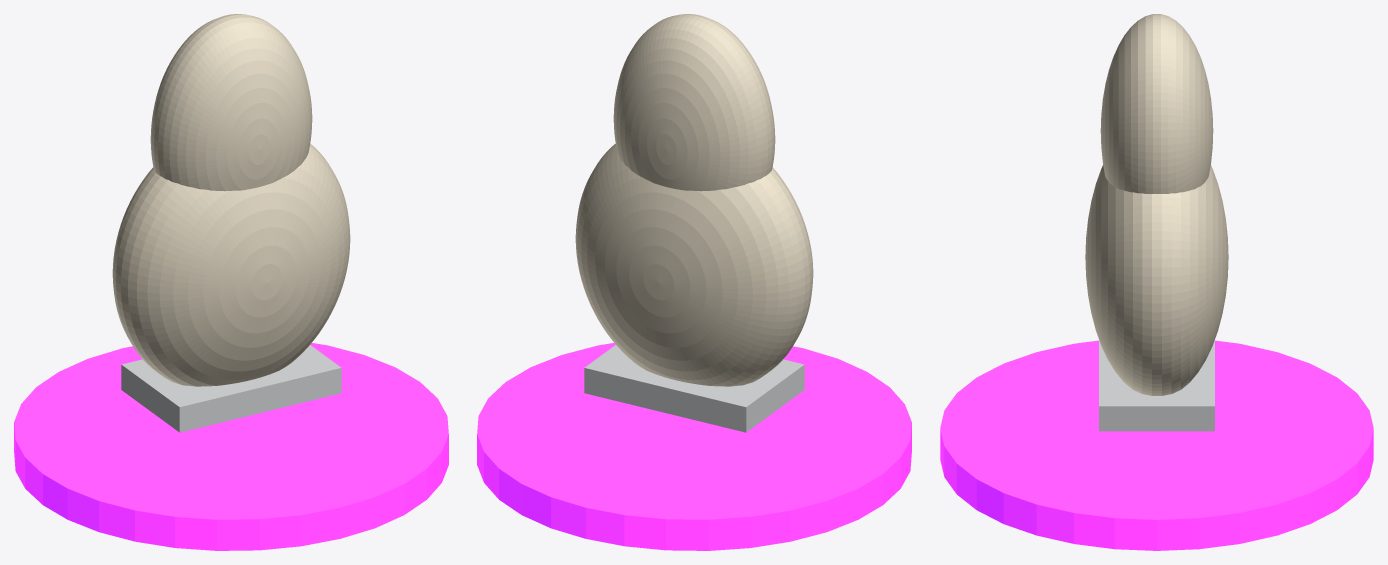
Rendered from modelling_mannequin_torso.glb.
The picture shows the model from 3 angles, left to right: view 1: azimuth 30°, elevation 25°; view 2: azimuth 150°, elevation 25°; view 3: azimuth 270°, elevation 25°; orthographic projection.
Parts seen in each view (by area): view 1: 05_04_Popular_Modelling_Mannequin_Torso_ROOT_base, 05_04_Popular_Modelling_Mannequin_Torso_part_02, 05_04_Popular_Modelling_Mannequin_Torso_part_01, 05_04_Popular_Modelling_Mannequin_Torso_part_04; view 2: 05_04_Popular_Modelling_Mannequin_Torso_ROOT_base, 05_04_Popular_Modelling_Mannequin_Torso_part_02, 05_04_Popular_Modelling_Mannequin_Torso_part_01, 05_04_Popular_Modelling_Mannequin_Torso_part_04; view 3: 05_04_Popular_Modelling_Mannequin_Torso_ROOT_base, 05_04_Popular_Modelling_Mannequin_Torso_part_02, 05_04_Popular_Modelling_Mannequin_Torso_part_01, 05_04_Popular_Modelling_Mannequin_Torso_part_04.
Boxes of the visible parts, <box> form: 05_04_Popular_Modelling_Mannequin_Torso_ROOT_base: <box>14,343,448,550</box>; 05_04_Popular_Modelling_Mannequin_Torso_part_02: <box>112,144,350,386</box>; 05_04_Popular_Modelling_Mannequin_Torso_part_01: <box>150,14,312,191</box>; 05_04_Popular_Modelling_Mannequin_Torso_part_04: <box>121,345,341,432</box>; 05_04_Popular_Modelling_Mannequin_Torso_ROOT_base: <box>477,343,911,550</box>; 05_04_Popular_Modelling_Mannequin_Torso_part_02: <box>575,144,813,386</box>; 05_04_Popular_Modelling_Mannequin_Torso_part_01: <box>613,14,775,191</box>; 05_04_Popular_Modelling_Mannequin_Torso_part_04: <box>584,345,804,432</box>; 05_04_Popular_Modelling_Mannequin_Torso_ROOT_base: <box>940,340,1373,550</box>; 05_04_Popular_Modelling_Mannequin_Torso_part_02: <box>1085,165,1228,395</box>; 05_04_Popular_Modelling_Mannequin_Torso_part_01: <box>1100,14,1213,193</box>; 05_04_Popular_Modelling_Mannequin_Torso_part_04: <box>1099,340,1214,431</box>.
Bounding box in the file's own units: 0.76 × 0.85 × 0.76.
